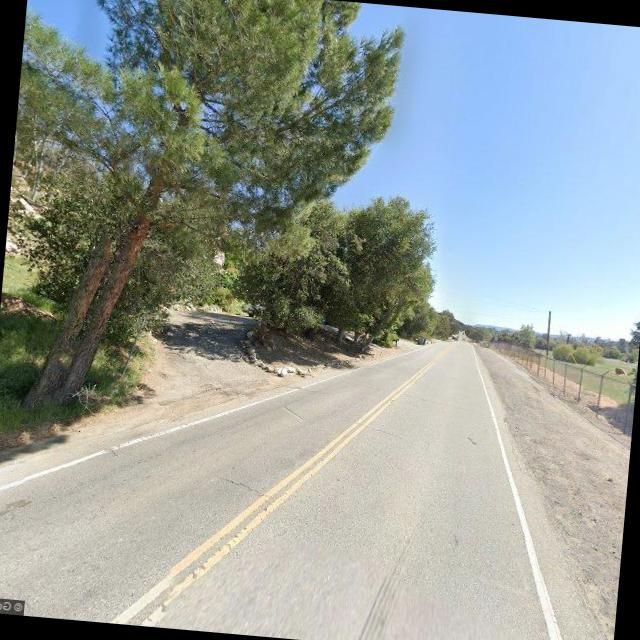crack: (213, 471, 284, 504), (366, 422, 413, 441)
